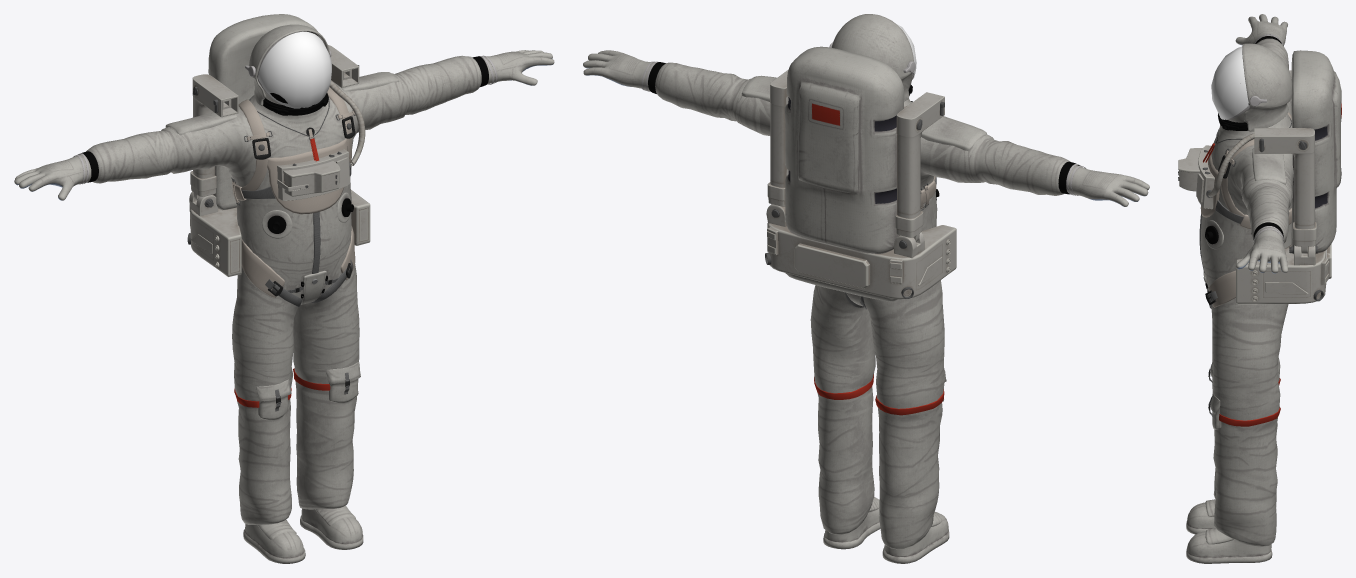
The model's file is astronaut.glb.
The picture shows the model from 3 angles, left to right: view 1: azimuth 30°, elevation 25°; view 2: azimuth 150°, elevation 25°; view 3: azimuth 270°, elevation 25°; orthographic projection. The views are drawn at different scales.
Parts seen in each view (by area): view 1: Mesh_3_gltf_material #2_0, Mesh_gltf_material #0_0, Object_1_Material_2_0; view 2: Mesh_3_gltf_material #2_0, Mesh_gltf_material #0_0; view 3: Mesh_3_gltf_material #2_0, Mesh_gltf_material #0_0, Object_1_Material_2_0.
Boxes of the visible parts, x1,y1,x2,y2 form: Mesh_3_gltf_material #2_0: (14,24,554,563); Mesh_gltf_material #0_0: (187,14,370,411); Object_1_Material_2_0: (258,31,331,108); Mesh_3_gltf_material #2_0: (583,14,1149,563); Mesh_gltf_material #0_0: (765,46,956,309); Mesh_3_gltf_material #2_0: (1186,14,1293,563); Mesh_gltf_material #0_0: (1178,50,1341,416); Object_1_Material_2_0: (1211,46,1248,119).
Bounding box in the file's own units: 2.62 × 2.37 × 0.7119.
Materials: 4 (2 with a texture image).
